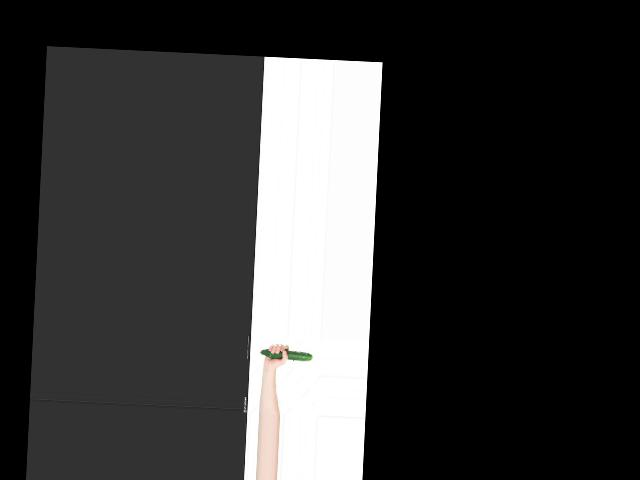cucumber: (259, 348, 312, 361)
